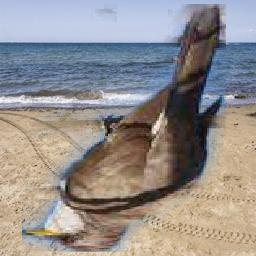Cuckoo: (22, 4, 226, 252)
